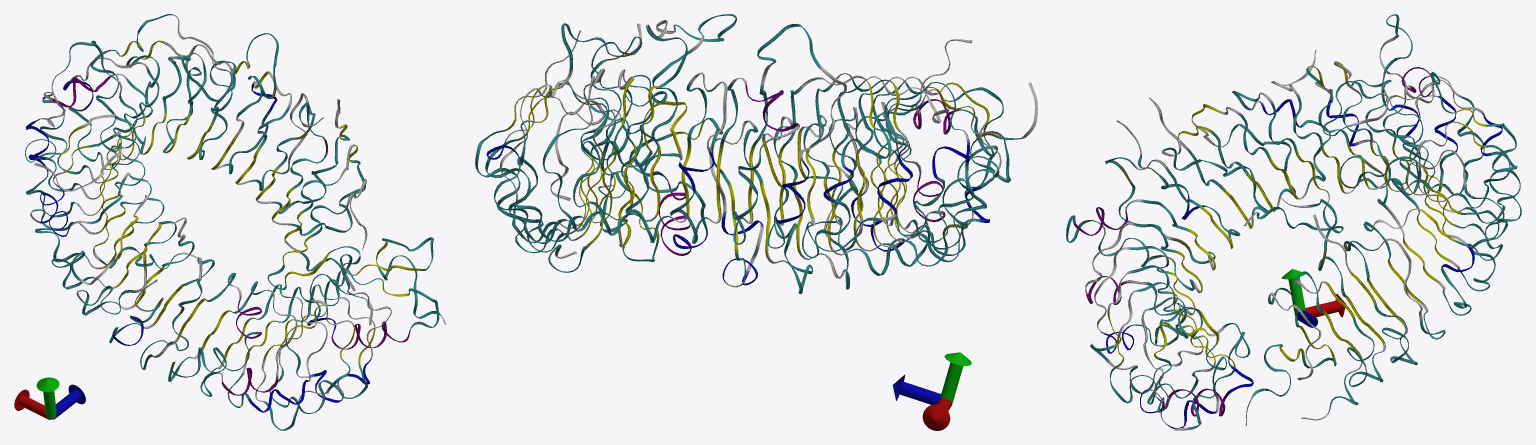
The model's file is 3wpf.obj.
3 renders of one model, left to right at view 1: azimuth 30°, elevation 25°; view 2: azimuth 150°, elevation 25°; view 3: azimuth 270°, elevation 25°, orthographic. The views are drawn at different scales.
Visible parts, largest first — view 1: vmd_mol0_rep0, vmd_axes; view 2: vmd_mol0_rep0, vmd_axes; view 3: vmd_mol0_rep0, vmd_axes.
Boxes of the visible parts, <box> form: vmd_mol0_rep0: <box>25,14,446,430</box>; vmd_axes: <box>14,377,85,419</box>; vmd_mol0_rep0: <box>475,14,1037,294</box>; vmd_axes: <box>892,352,971,430</box>; vmd_mol0_rep0: <box>1066,14,1521,430</box>; vmd_axes: <box>1281,269,1346,327</box>.
Bounding box in the file's own units: 2.28 × 1.97 × 2.35.
